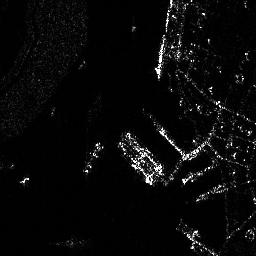ship: (123, 130, 166, 175), (119, 141, 155, 185), (83, 141, 102, 174)
